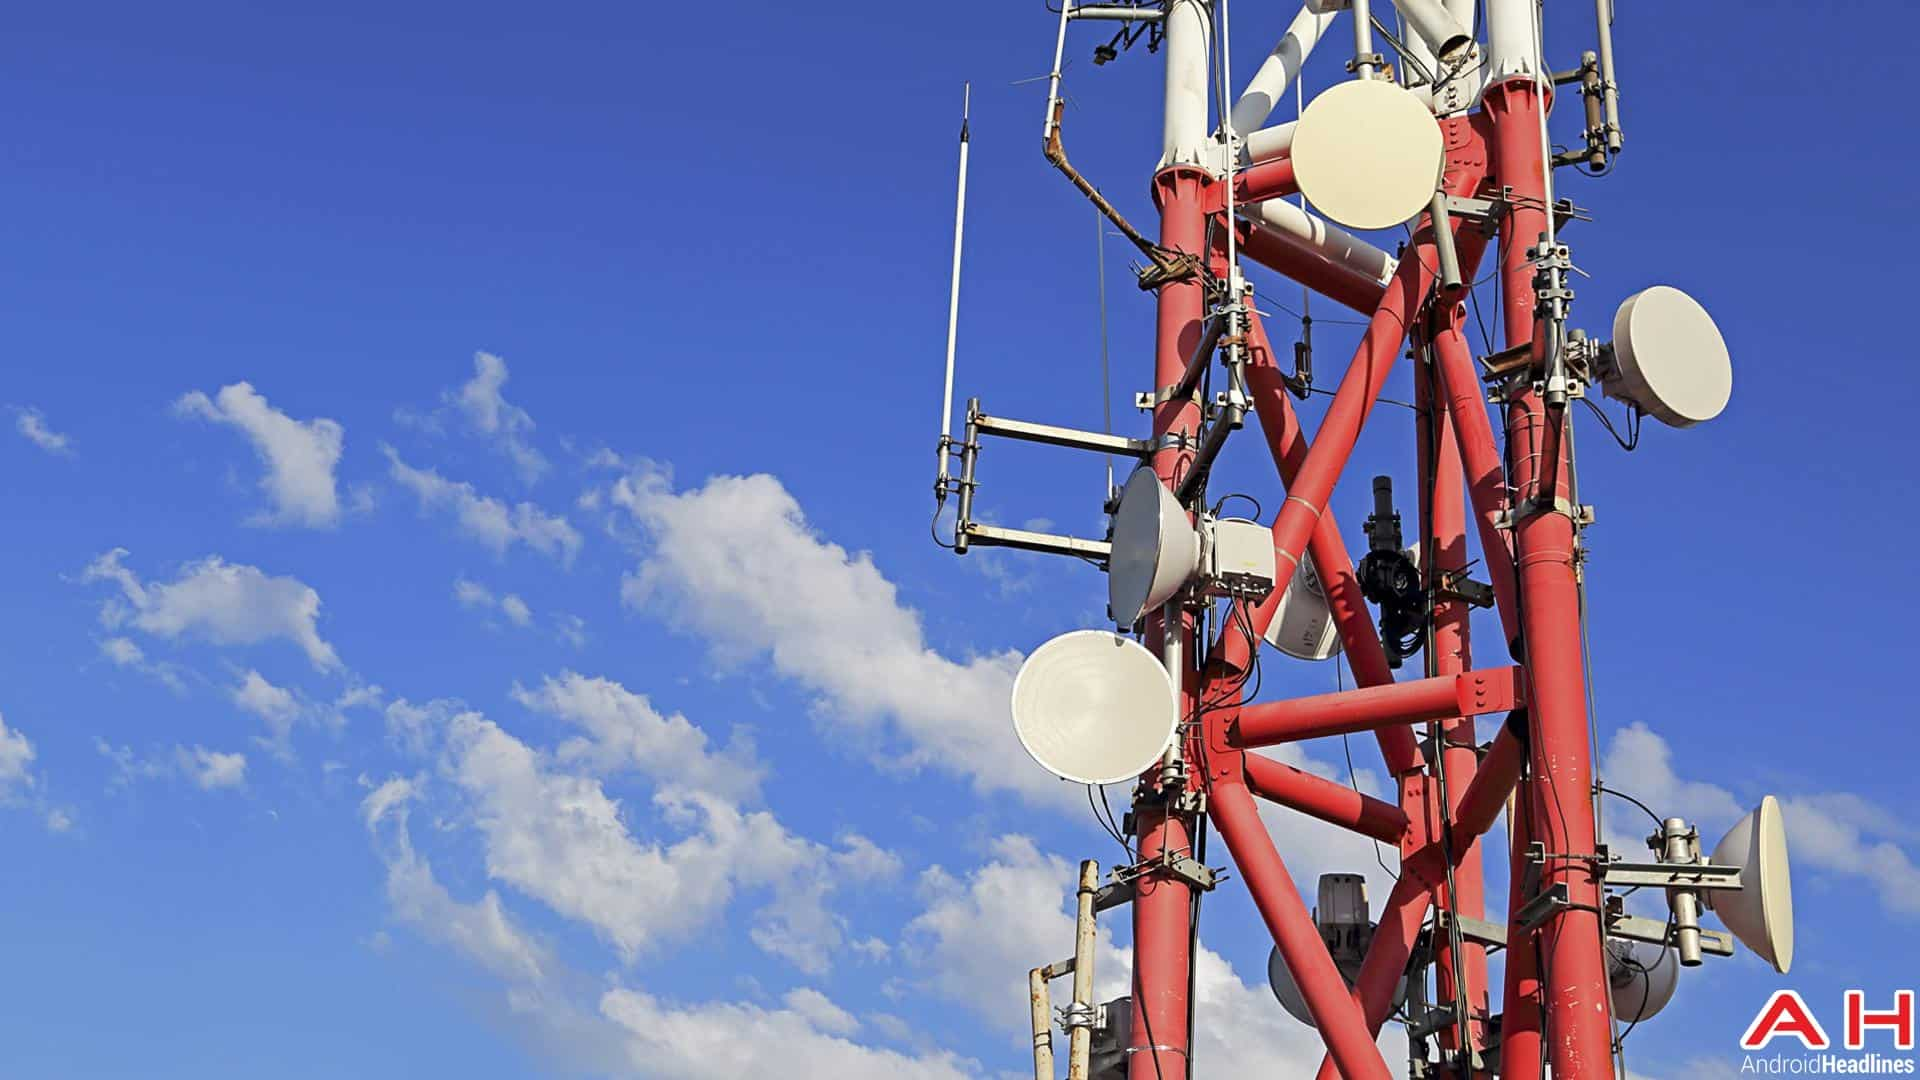ba: (1073, 447, 1319, 655), (1636, 758, 1813, 992), (990, 630, 1218, 804), (1257, 80, 1453, 266), (1588, 260, 1745, 467)
